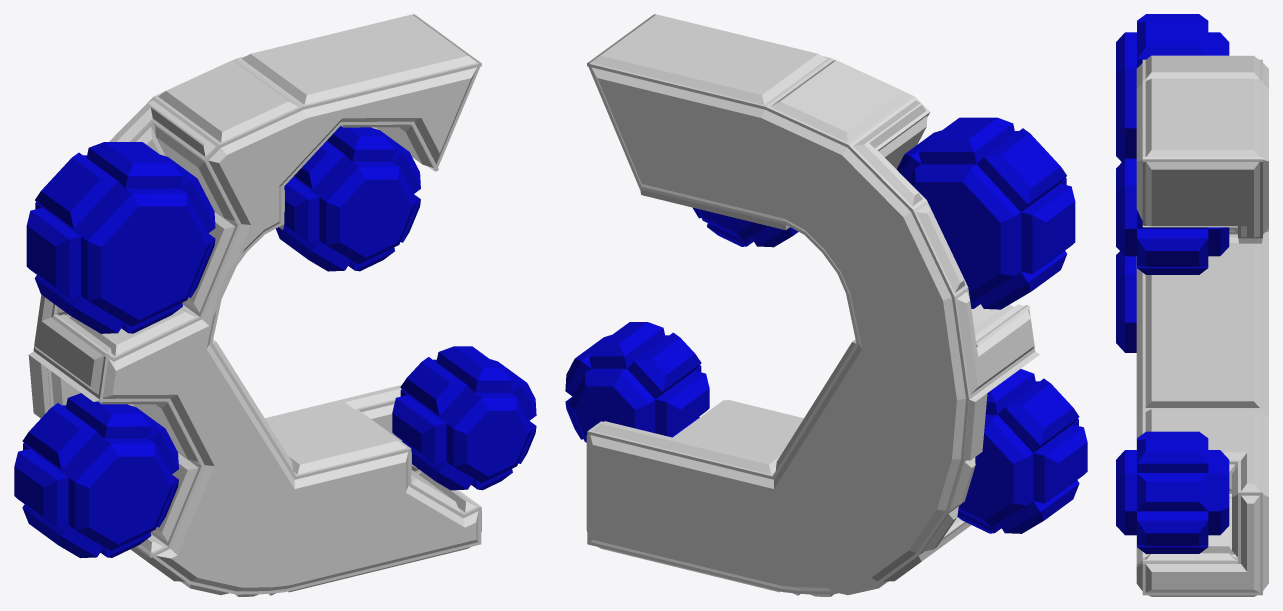
The picture shows the model from 3 angles, left to right: view 1: azimuth 30°, elevation 25°; view 2: azimuth 150°, elevation 25°; view 3: azimuth 270°, elevation 25°; orthographic projection. The views are drawn at different scales.
Parts seen in each view (by area): view 1: sphere1; view 2: sphere1; view 3: sphere1.
Part boxes in pixels (<box>): sphere1: <box>14,14,536,596</box>; sphere1: <box>565,14,1087,596</box>; sphere1: <box>1116,14,1268,596</box>.
Size of the model in its own units: 0.8564 by 0.82 by 0.2541.
